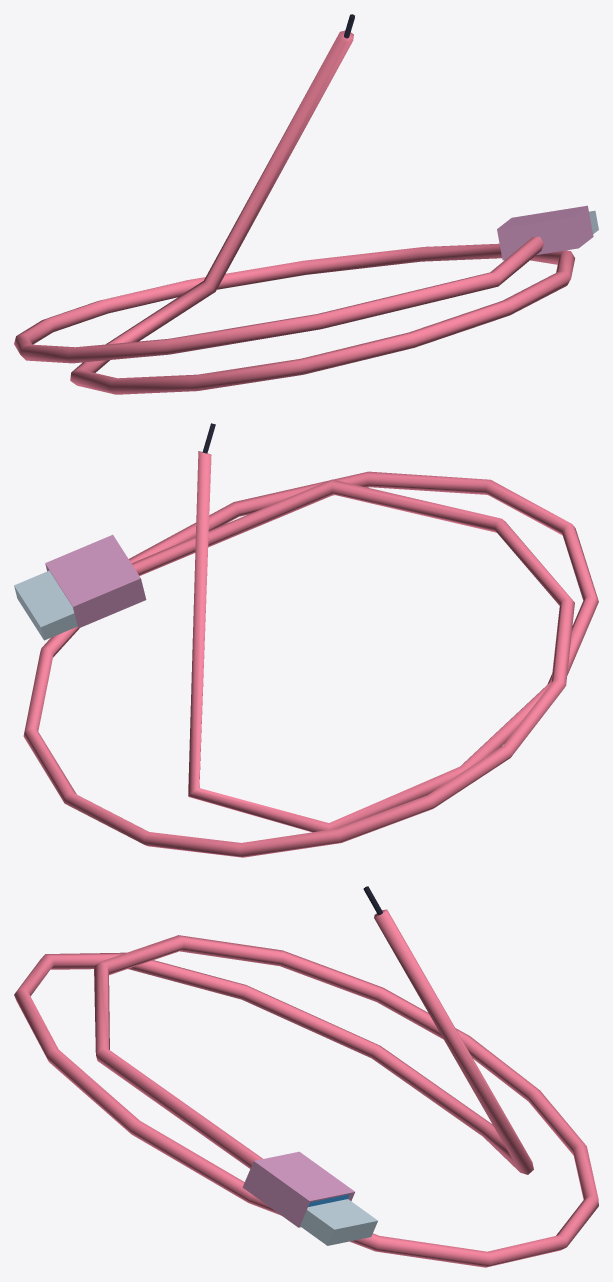
Rendered from Gift_PhoneCharger.fbx.
3 renders of one model, top to bottom at view 1: azimuth 30°, elevation 25°; view 2: azimuth 150°, elevation 25°; view 3: azimuth 270°, elevation 25°, orthographic. The views are drawn at different scales.
Visible parts, largest first — view 1: Gift_PhoneCharger; view 2: Gift_PhoneCharger; view 3: Gift_PhoneCharger.
Boxes of the visible parts, x1,y1,x2,y2 form: Gift_PhoneCharger: (14,14,598,394); Gift_PhoneCharger: (14,423,598,857); Gift_PhoneCharger: (14,886,598,1267).
Size of the model in its own units: 119 by 72.21 by 111.
